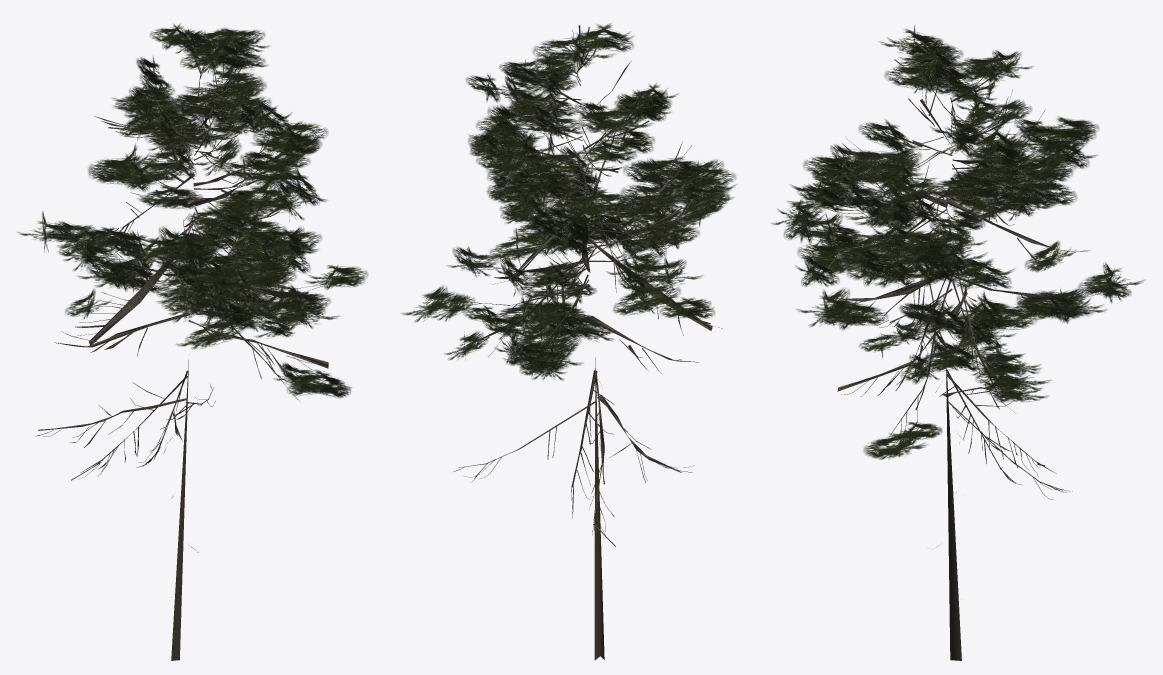
File: tree-v3-mobile.glb
3 views of the same model, side by side, from view 1: azimuth 30°, elevation 25°; view 2: azimuth 150°, elevation 25°; view 3: azimuth 270°, elevation 25° (orthographic). The views are drawn at different scales.
Visible parts, largest first — view 1: tree-v3-mobile; view 2: tree-v3-mobile; view 3: tree-v3-mobile.
Boxes of the visible parts, x1,y1,x2,y2 form: tree-v3-mobile: (17,23,367,660); tree-v3-mobile: (401,23,736,660); tree-v3-mobile: (771,25,1144,660).
Size of the model in its own units: 5.8 by 11.96 by 6.45.
Materials: 4 (4 with a texture image).
